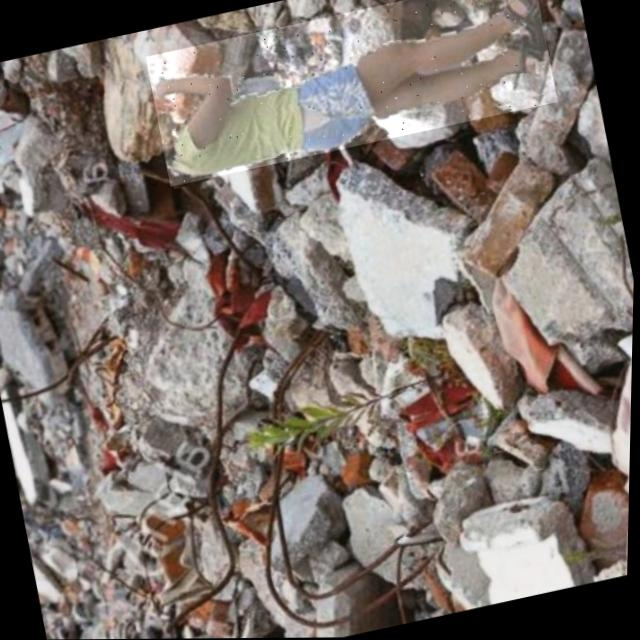Person in Rubble: (143, 0, 559, 185)
